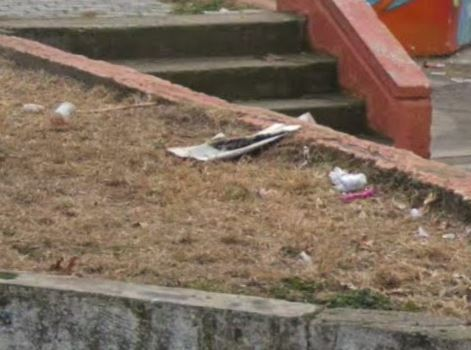trash: (162, 121, 305, 164), (325, 161, 380, 204), (43, 96, 87, 123)
